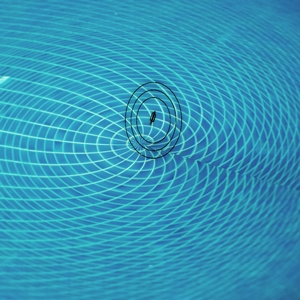circle: (101, 74, 193, 165)
